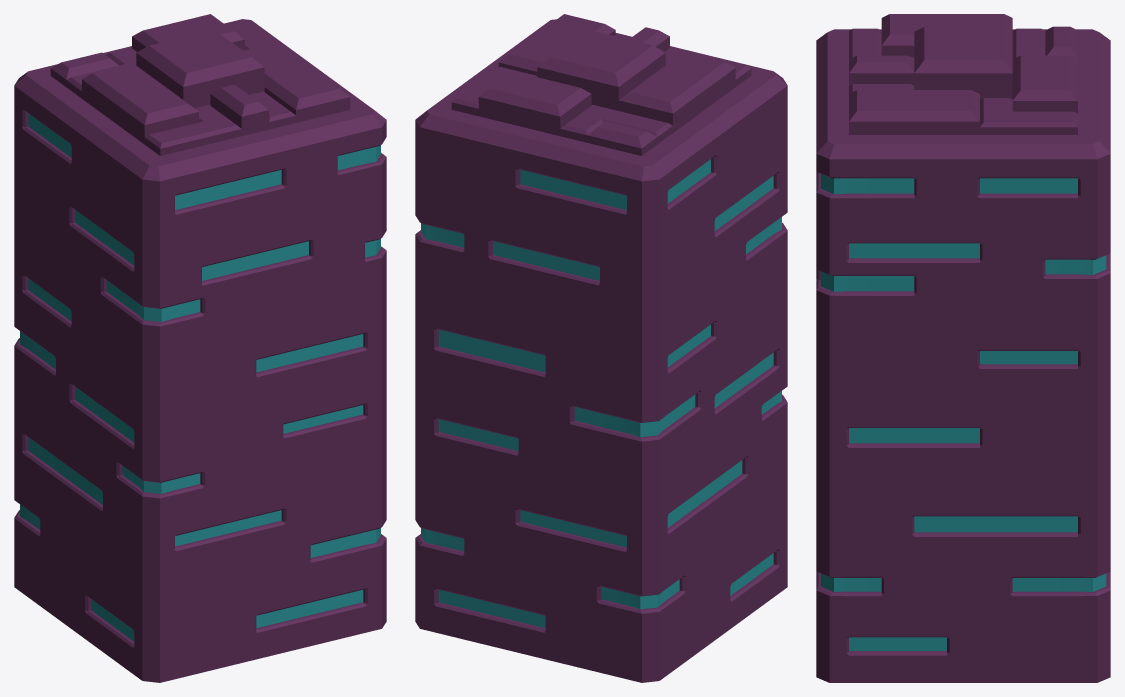
The model's file is BuildingE.fbx.
3 views of the same model, side by side, from view 1: azimuth 30°, elevation 25°; view 2: azimuth 150°, elevation 25°; view 3: azimuth 270°, elevation 25° (orthographic). The views are drawn at different scales.
Visible parts, largest first — view 1: BuidlingE; view 2: BuidlingE; view 3: BuidlingE.
Boxes of the visible parts, x1,y1,x2,y2 form: BuidlingE: (14,14,386,682); BuidlingE: (415,14,787,682); BuidlingE: (816,14,1110,682).
Size of the model in its own units: 500 by 1081 by 500.
